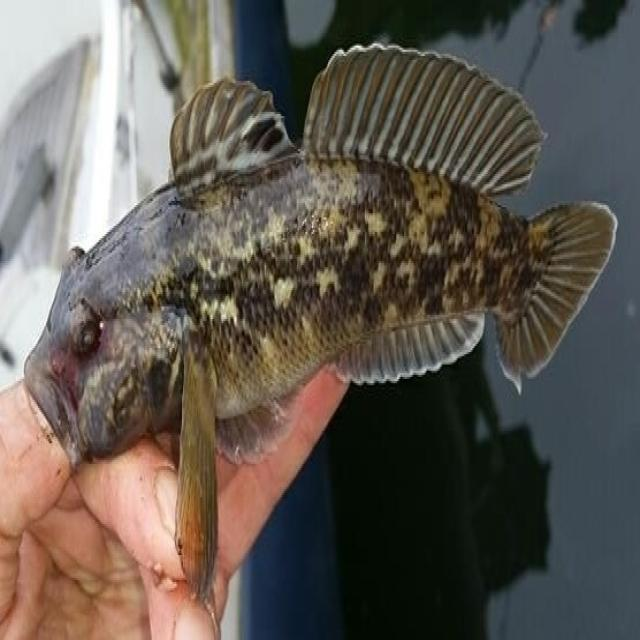Goby: (19, 22, 629, 588)
